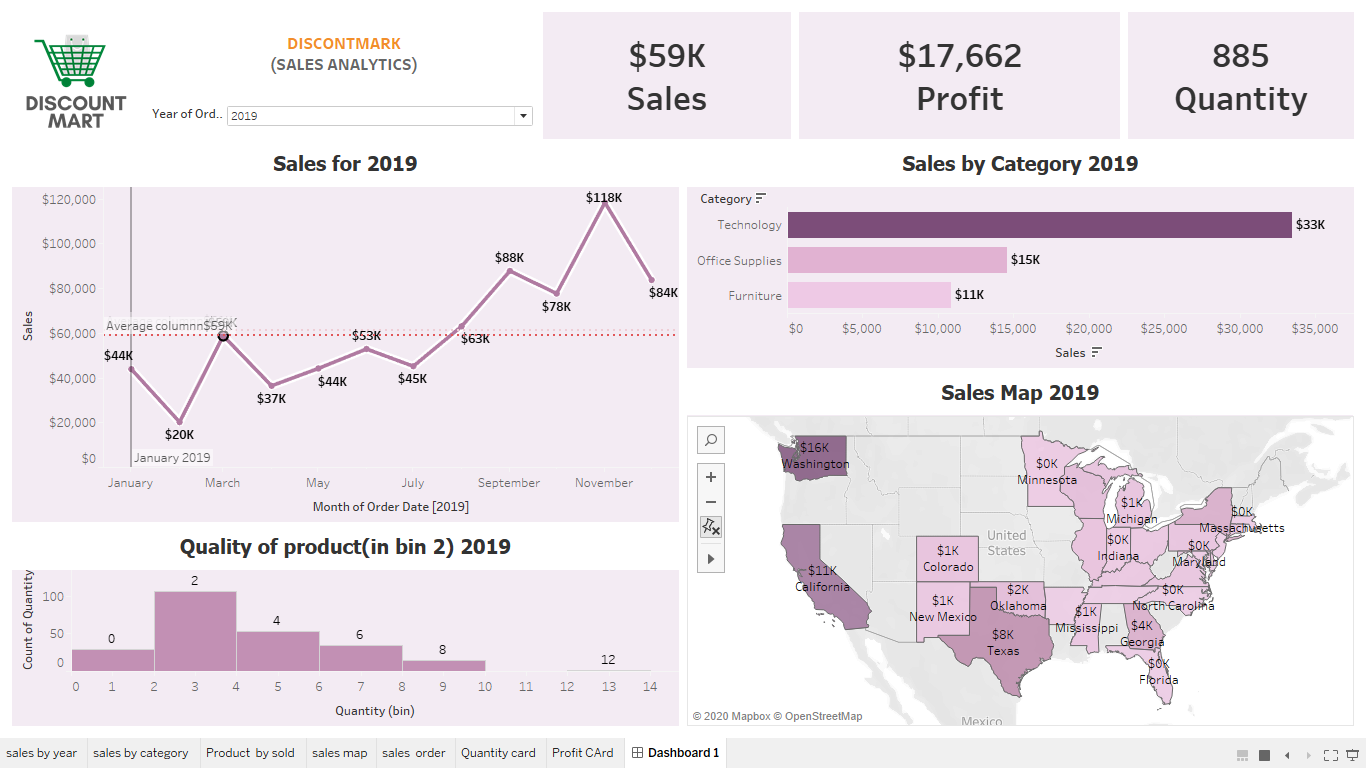

Layout of this report page (visuals, bound fields, positions):
{"tool":"tableau","page":{"name":"Dashboard 1","canvas":[1000,1000],"units":"permille","ordinal":0},"visuals":[{"type":"worksheet","box":[0,0,1000,1000]},{"type":"worksheet","param":"horz","box":[7.1,14.9,985.8,970.3]},{"type":"worksheet","param":"vert","box":[7.1,14.9,985.8,970.3]},{"type":"worksheet","box":[7.1,14.9,985.8,970.3]},{"type":"worksheet","param":"Image/Discount+Mart+(1).png","box":[7.1,14.9,102,180.9]},{"type":"worksheet","box":[109.1,14.9,286,122.8]},{"type":"worksheet","title":"sales  order","mark":"Automatic","box":[395.1,14.9,186.8,180.9]},{"type":"worksheet","title":"Profit CArd","mark":"Automatic","box":[581.9,14.9,240.2,180.9]},{"type":"worksheet","title":"Quantity card","mark":"Automatic","box":[822.2,14.9,170.7,180.9]},{"type":"worksheet","title":"sales by year","mark":"Automatic","rows":["Sales"],"cols":["Order Date"],"param":"[federated.00zat1005hmzmr10r0mea0vnvfs2].[yr:Order Date:ok]","box":[109.1,137.7,286,58.1]},{"type":"worksheet","title":"sales by year","mark":"Automatic","rows":["Sales"],"cols":["Order Date"],"box":[7.1,195.7,492.9,514.7]},{"type":"worksheet","title":"sales by category","mark":"Automatic","rows":["Category"],"cols":["Sales"],"box":[500,195.7,492.9,308]},{"type":"worksheet","title":"sales map","mark":"Multipolygon","box":[500,503.7,492.9,481.4]},{"type":"worksheet","title":"Product  by sold","mark":"Automatic","rows":["Quantity"],"cols":["Quantity (bin)"],"box":[7.1,710.5,492.9,274.7]}]}

Visuals, with their boxes on the dashboard's canvas, which has no fixed pixel size, in thousandths of its width and height (x1, y1, x2, y2). These are canvas units, not pixel positions in the 1366x768 screenshot, which may show the page scaled, cropped or inside an application window:
worksheet: Rect(0, 0, 1000, 1000)
worksheet: Rect(7, 15, 993, 985)
worksheet: Rect(7, 15, 993, 985)
worksheet: Rect(7, 15, 993, 985)
worksheet: Rect(7, 15, 109, 196)
worksheet: Rect(109, 15, 395, 138)
"sales  order" worksheet: Rect(395, 15, 582, 196)
"Profit CArd" worksheet: Rect(582, 15, 822, 196)
"Quantity card" worksheet: Rect(822, 15, 993, 196)
"sales by year" worksheet: Rect(109, 138, 395, 196)
"sales by year" worksheet: Rect(7, 196, 500, 710)
"sales by category" worksheet: Rect(500, 196, 993, 504)
"sales map" worksheet (Multipolygon marks): Rect(500, 504, 993, 985)
"Product  by sold" worksheet: Rect(7, 710, 500, 985)
